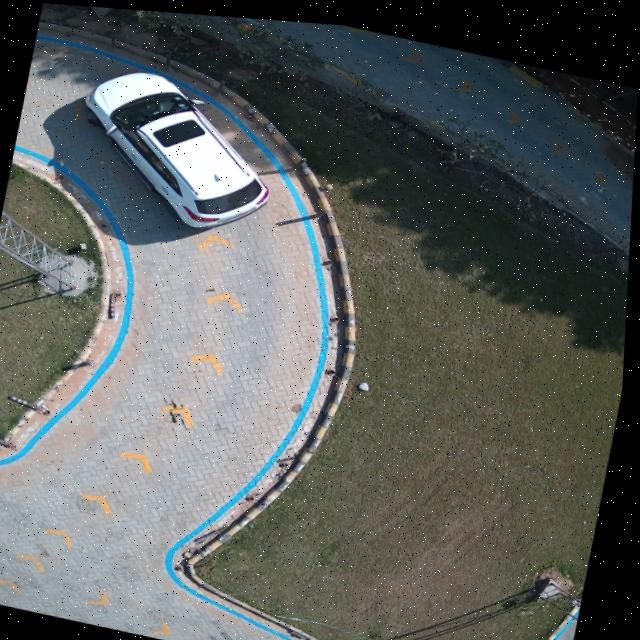car: (85, 70, 270, 226)
